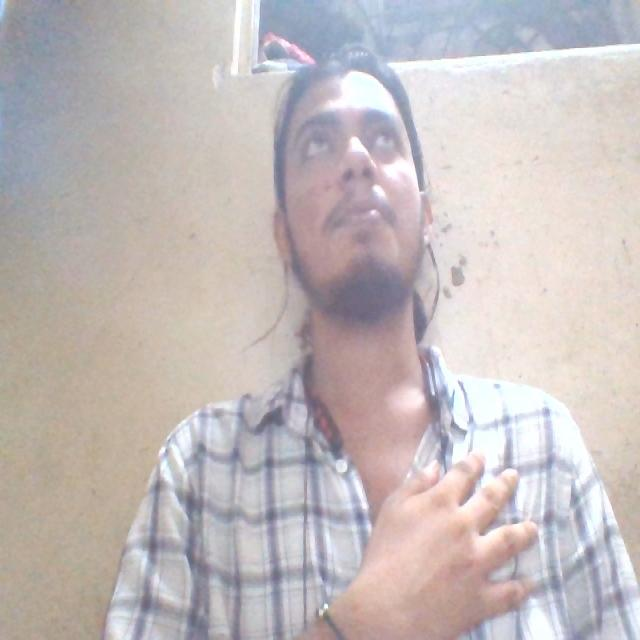I love u: (312, 446, 565, 624)
